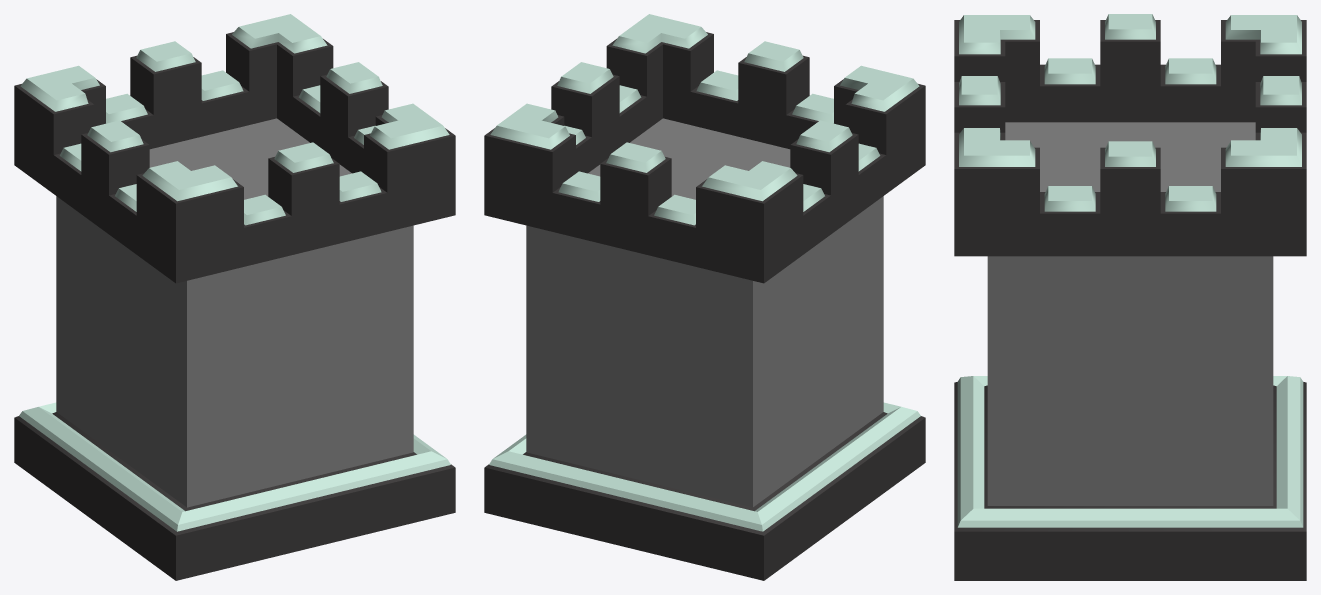
File: tower-w.glb
The picture shows the model from 3 angles, left to right: view 1: azimuth 30°, elevation 25°; view 2: azimuth 150°, elevation 25°; view 3: azimuth 270°, elevation 25°; orthographic projection. The views are drawn at different scales.
Parts seen in each view (by area): view 1: ForestTower; view 2: ForestTower; view 3: ForestTower.
Boxes of the visible parts, box(x1,y1,x2,y2) form: ForestTower: box(14, 14, 455, 580); ForestTower: box(484, 14, 925, 580); ForestTower: box(954, 14, 1306, 580).
Size of the model in its own units: 400 by 527 by 400.
1 material, 1 textured.
